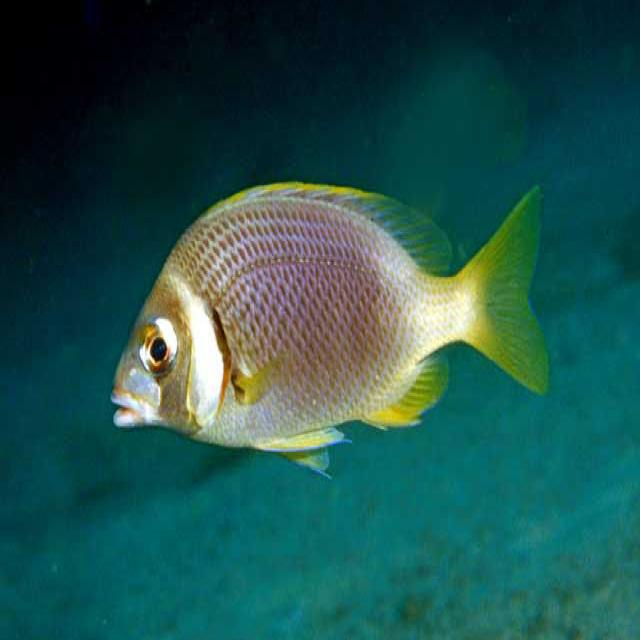ikan: (109, 177, 551, 480)
